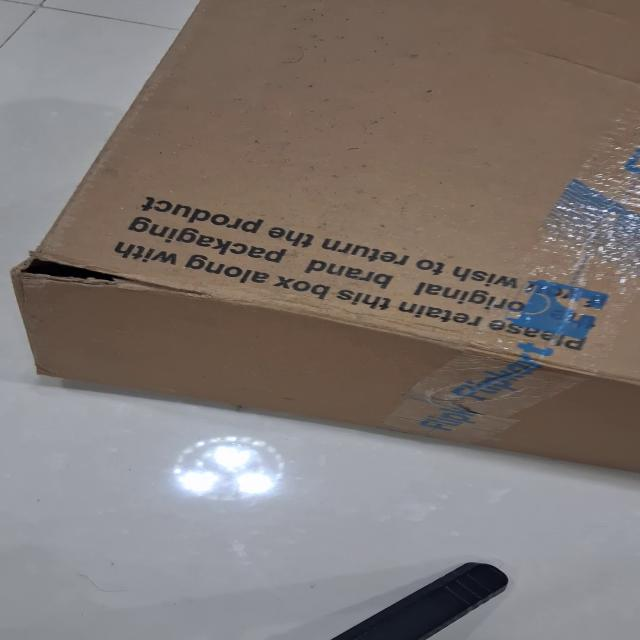paper: (8, 0, 639, 475)
